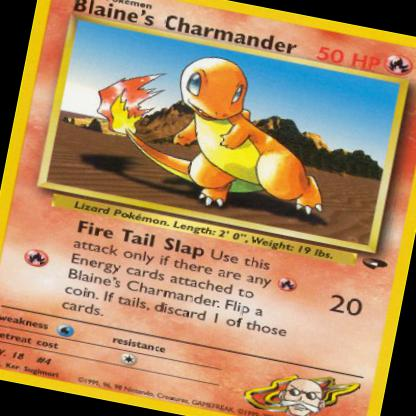Charmander: (101, 39, 349, 229)
